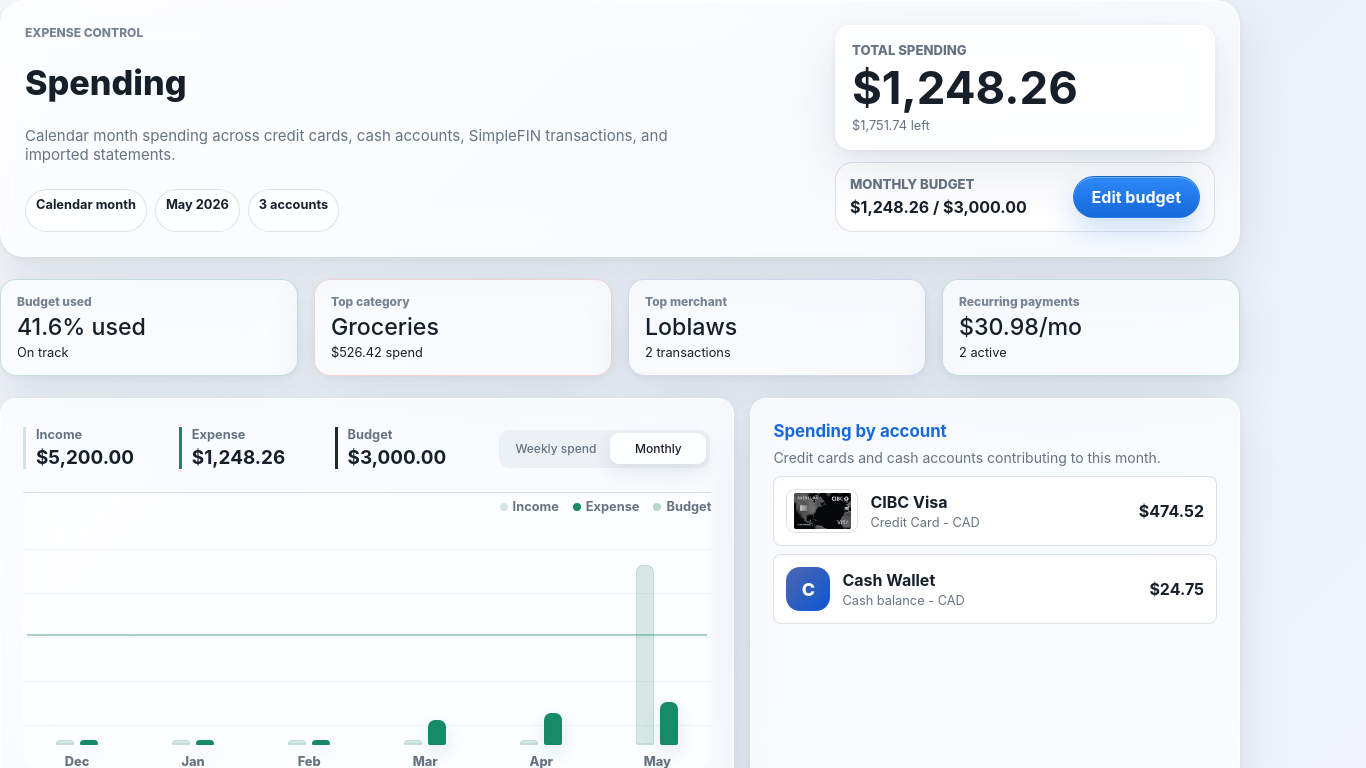
Test case: SpendingView › switches budget chart between monthly comparison and weekly spend
Click the button "Weekly spend": click(556, 448) [503,433,608,464]
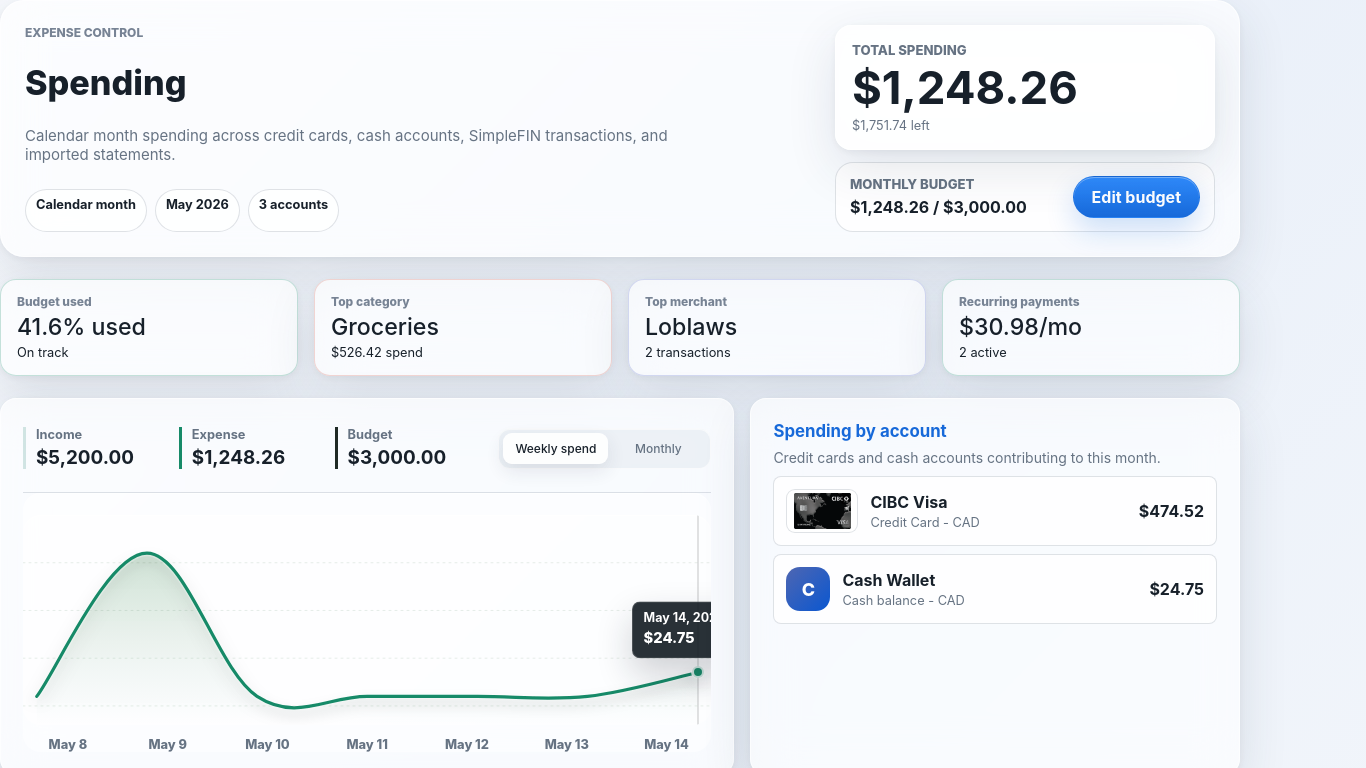
Check: the picture named "Weekly spending trend" is shown, box [23,515,711,725]
Check: the element with class "weekly-spend-endpoint-dot" is shown, box [693,667,703,677]
Check: the text "May 9" is shown, box [148,737,187,752]
Click the button "Monthly": click(658, 448) [610,433,706,464]
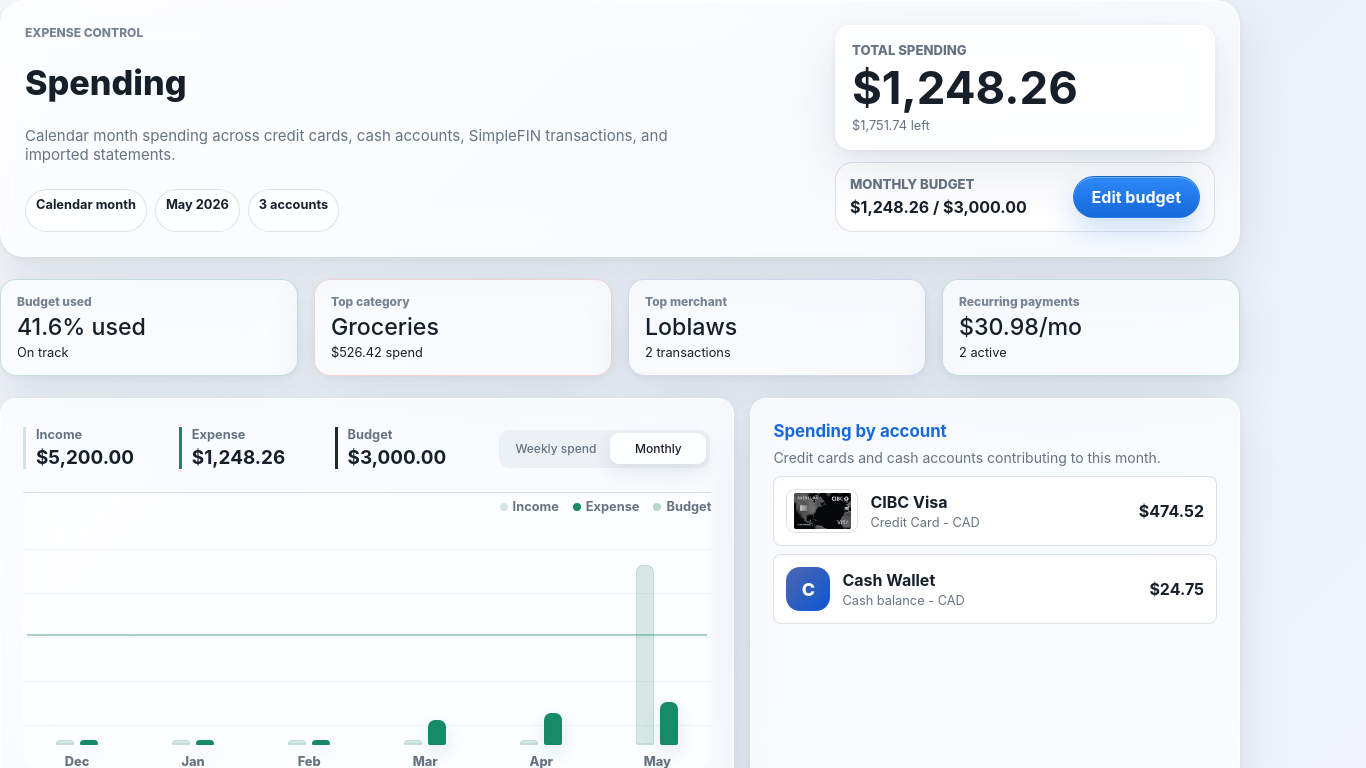
Check: the list named "Budget overview chart" is shown, box [23,531,711,767]
Check: the element named "Monthly budget line" is shown, box [27,634,707,636]
